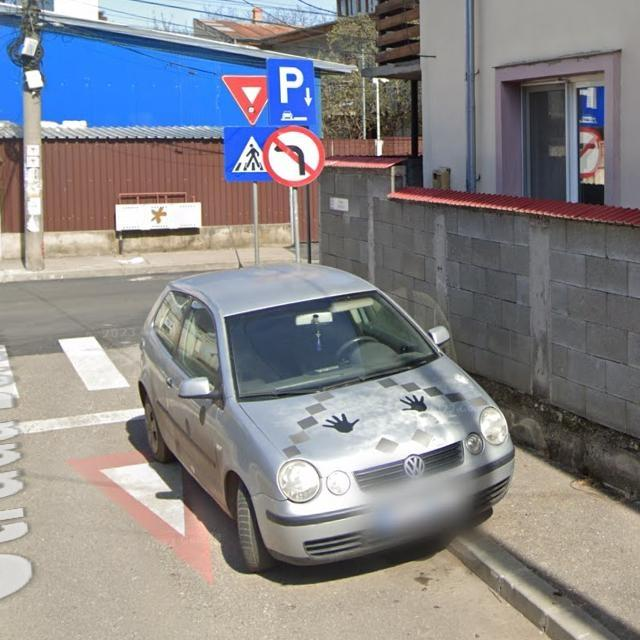info_crosswalk: (223, 126, 270, 181)
prio_give_way: (66, 447, 218, 585), (221, 74, 268, 126)
